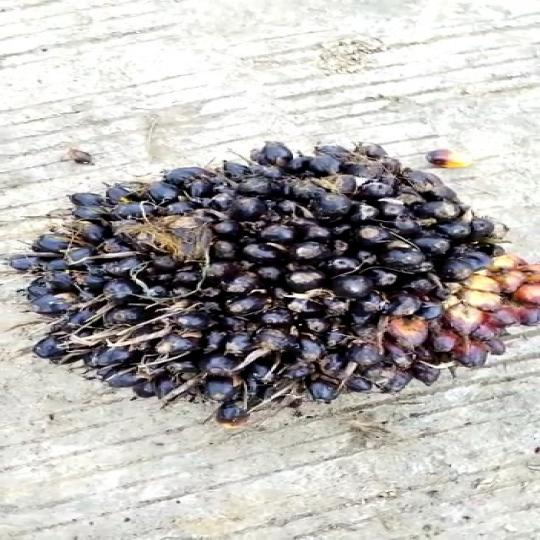mentah: (19, 132, 540, 416)
